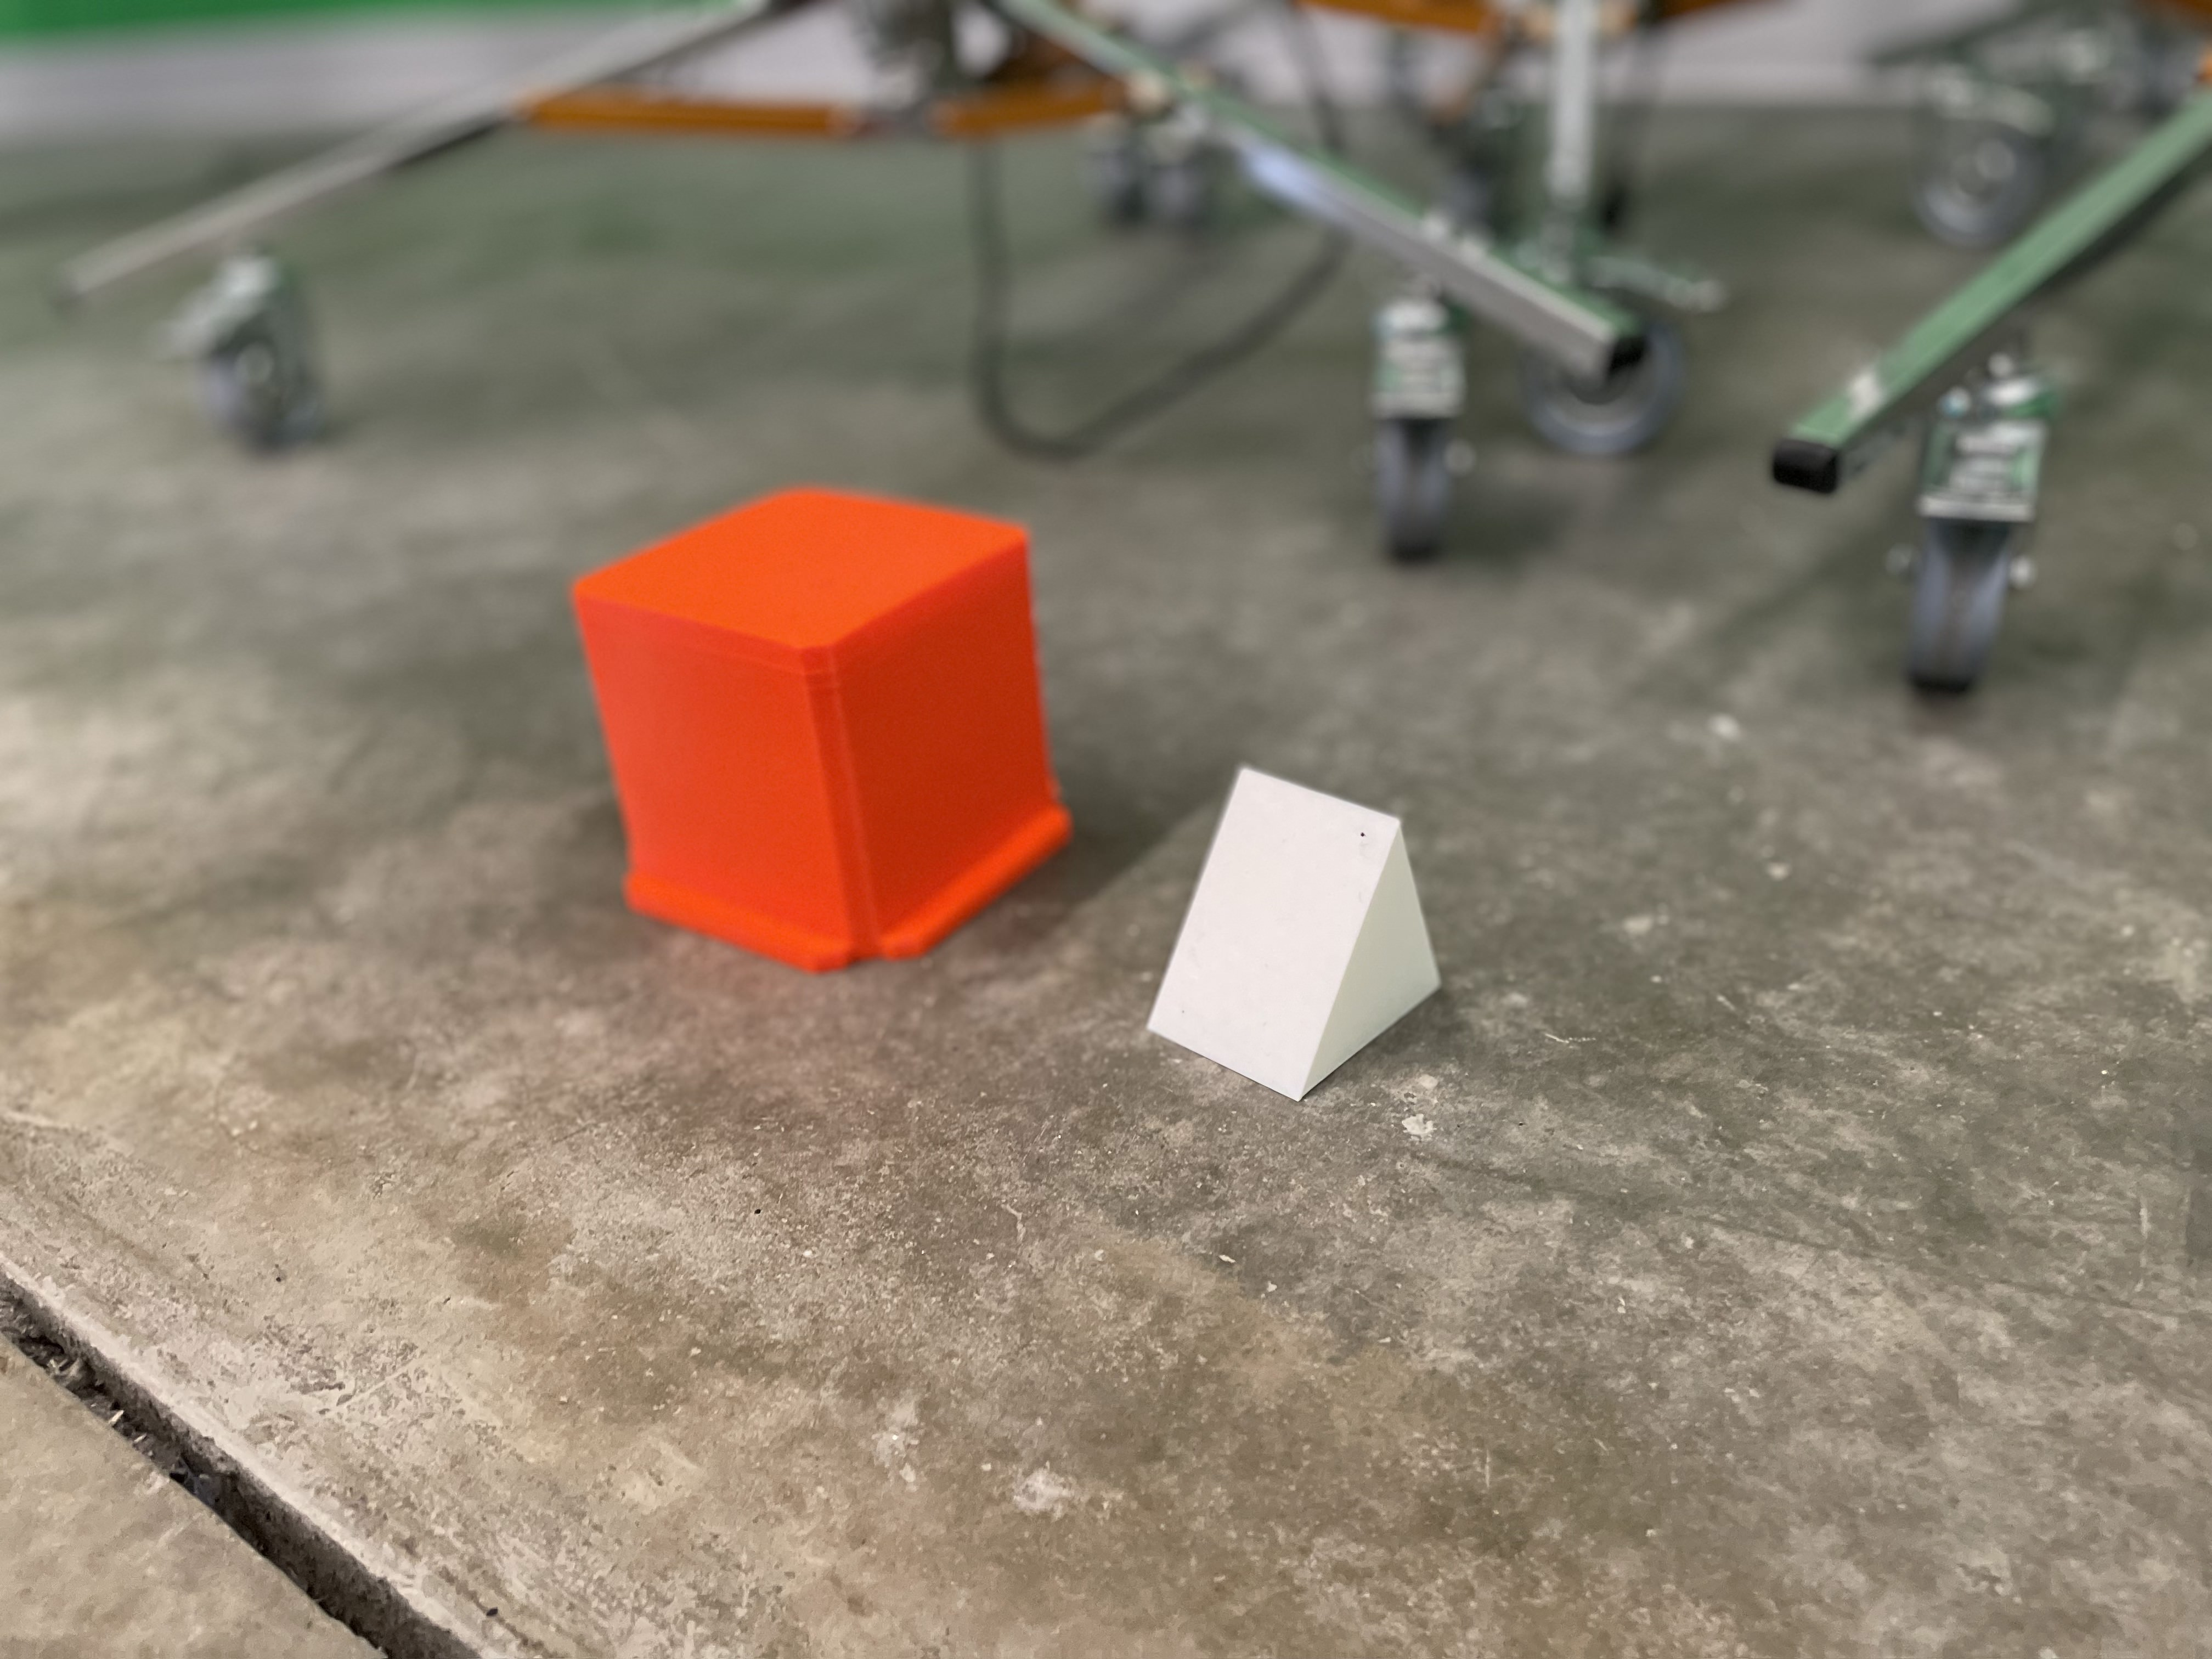payload1: (547, 472, 1097, 986)
payload2: (1136, 744, 1456, 1112)
